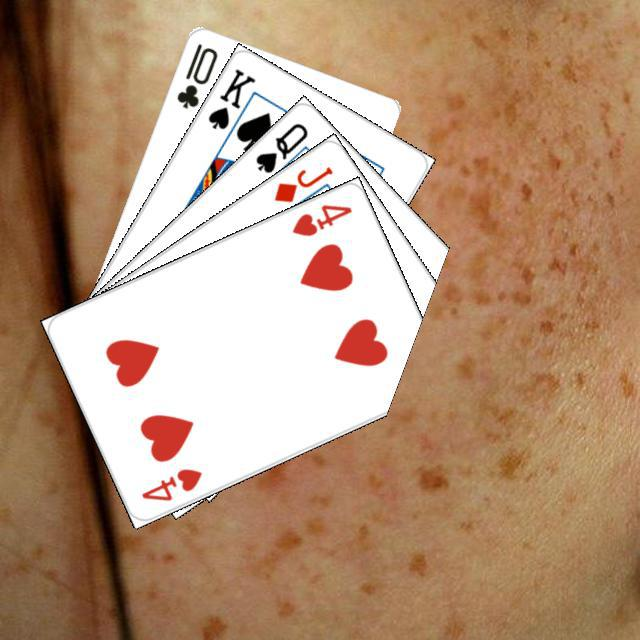10c: (171, 38, 220, 111)
4h: (136, 463, 204, 503), (287, 199, 354, 238)
Jd: (268, 161, 335, 205)
Ks: (203, 63, 258, 132)
Qs: (250, 118, 310, 175)
